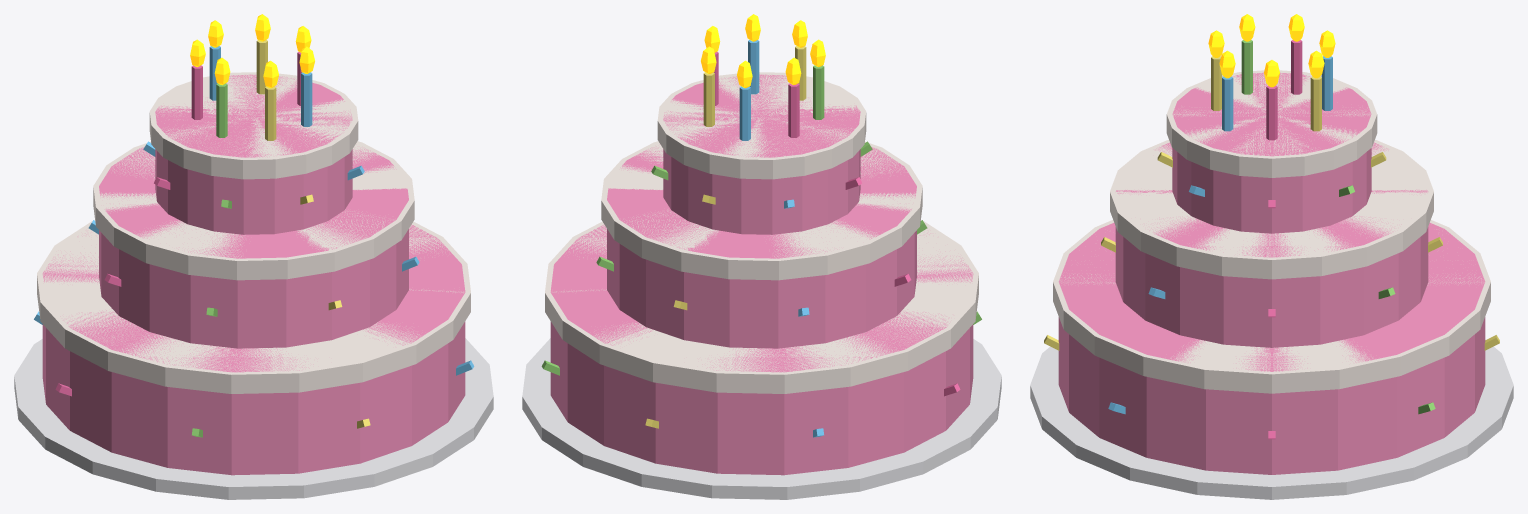
Rendered from birthday_cake.glb.
3 renders of one model, left to right at view 1: azimuth 30°, elevation 25°; view 2: azimuth 150°, elevation 25°; view 3: azimuth 270°, elevation 25°, orthographic.
Parts seen in each view (by area): view 1: tiers_cake_icing, tiers_cake_drip, plate_cake_plate, candles, tiers; view 2: tiers_cake_icing, tiers_cake_drip, plate_cake_plate, candles, tiers; view 3: tiers_cake_icing, tiers_cake_drip, plate_cake_plate, candles, tiers.
Boxes of the visible parts, x1,y1,x2,y2 form: tiers_cake_icing: [42, 74, 465, 475]; tiers_cake_drip: [37, 72, 470, 393]; plate_cake_plate: [14, 338, 493, 499]; candles: [191, 40, 312, 140]; tiers: [34, 141, 474, 437]; tiers_cake_icing: [550, 74, 973, 475]; tiers_cake_drip: [545, 72, 978, 393]; plate_cake_plate: [522, 338, 1001, 499]; candles: [703, 40, 824, 140]; tiers: [541, 141, 981, 437]; tiers_cake_icing: [1058, 72, 1485, 474]; tiers_cake_drip: [1053, 70, 1490, 393]; plate_cake_plate: [1030, 346, 1513, 499]; candles: [1211, 40, 1332, 140]; tiers: [1044, 152, 1499, 439].
Size of the model in its own units: 0.68 by 0.562 by 0.68.
